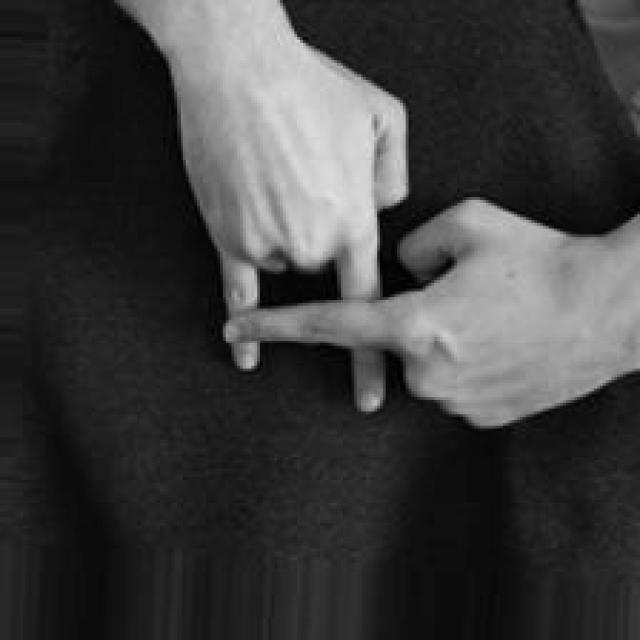H: (162, 0, 640, 432)
